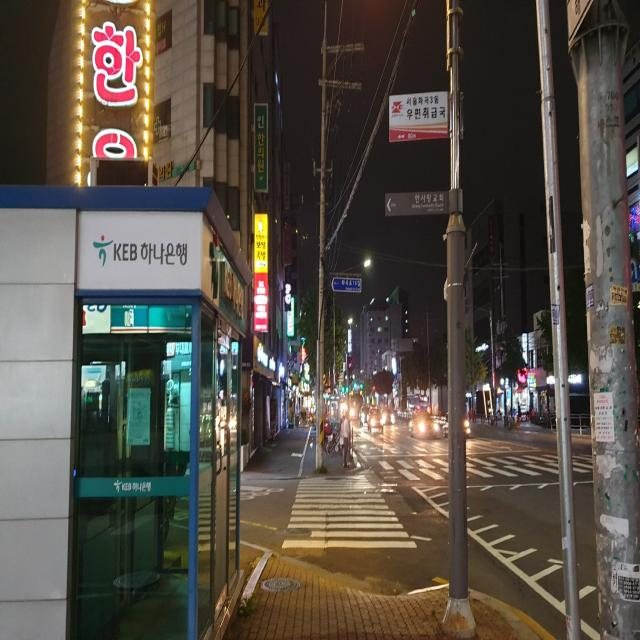횡단보도: (280, 473, 418, 550), (390, 451, 593, 484)
